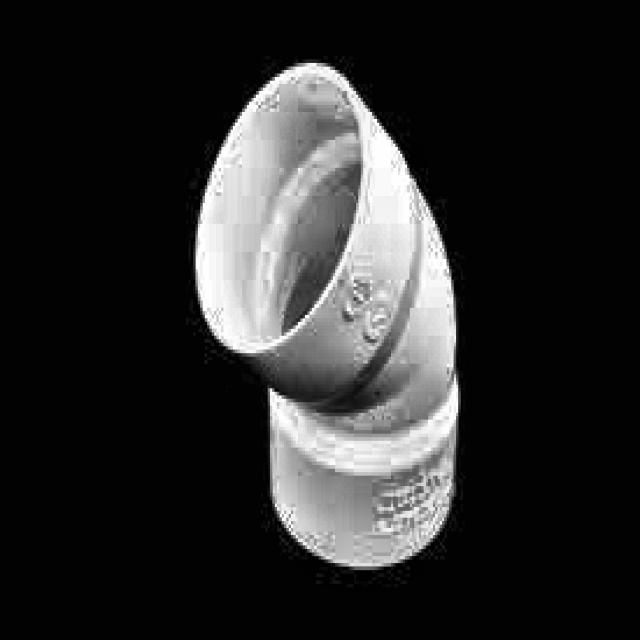ELBOW45: (191, 63, 458, 570)
